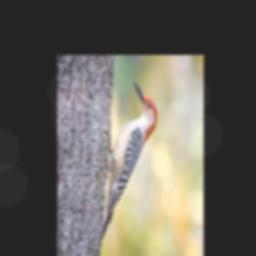Woodpecker: (100, 81, 157, 241)
